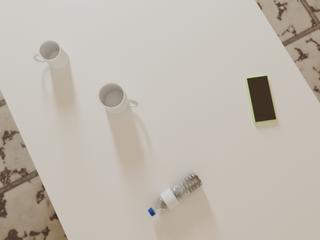bottle: (148, 172, 203, 216)
cup: (98, 82, 138, 114), (33, 40, 69, 69)
phone: (245, 75, 277, 123)
